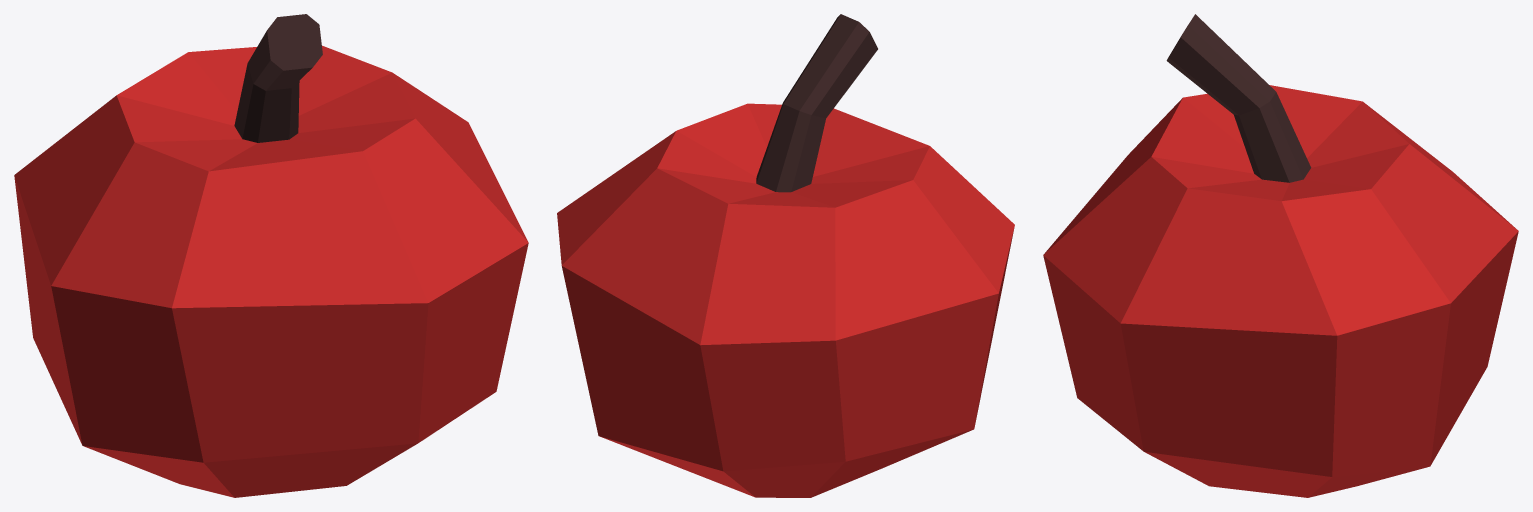
Rendered from Apple.fbx.
3 views of the same model, side by side, from view 1: azimuth 30°, elevation 25°; view 2: azimuth 150°, elevation 25°; view 3: azimuth 270°, elevation 25° (orthographic). The views are drawn at different scales.
Parts seen in each view (by area): view 1: Apple; view 2: Apple; view 3: Apple.
Boxes of the visible parts, x1=… form: Apple: x1=14, y1=14, x2=528, y2=497; Apple: x1=557, y1=14, x2=1014, y2=497; Apple: x1=1043, y1=14, x2=1518, y2=497.
Size of the model in its own units: 65.18 by 63.98 by 64.93.
